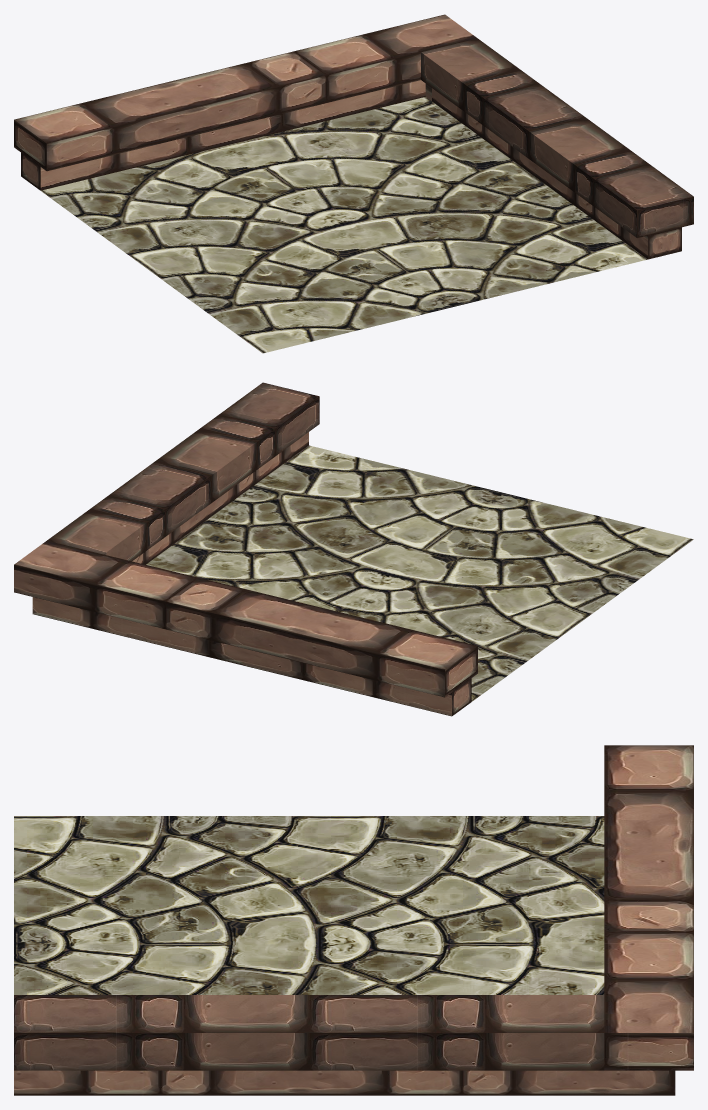
The model's file is Adr_Suelo_007.fbx.
3 renders of one model, top to bottom at view 1: azimuth 30°, elevation 25°; view 2: azimuth 150°, elevation 25°; view 3: azimuth 270°, elevation 25°, orthographic. The views are drawn at different scales.
Visible parts, largest first — view 1: Adr_Suelo_007; view 2: Adr_Suelo_007; view 3: Adr_Suelo_007.
Part boxes in pixels (x1,y1,x2,y2): Adr_Suelo_007: [14, 14, 693, 353]; Adr_Suelo_007: [14, 382, 693, 716]; Adr_Suelo_007: [14, 745, 693, 1095].
Bounding box in the file's own units: 5.6 × 0.6412 × 5.6.
